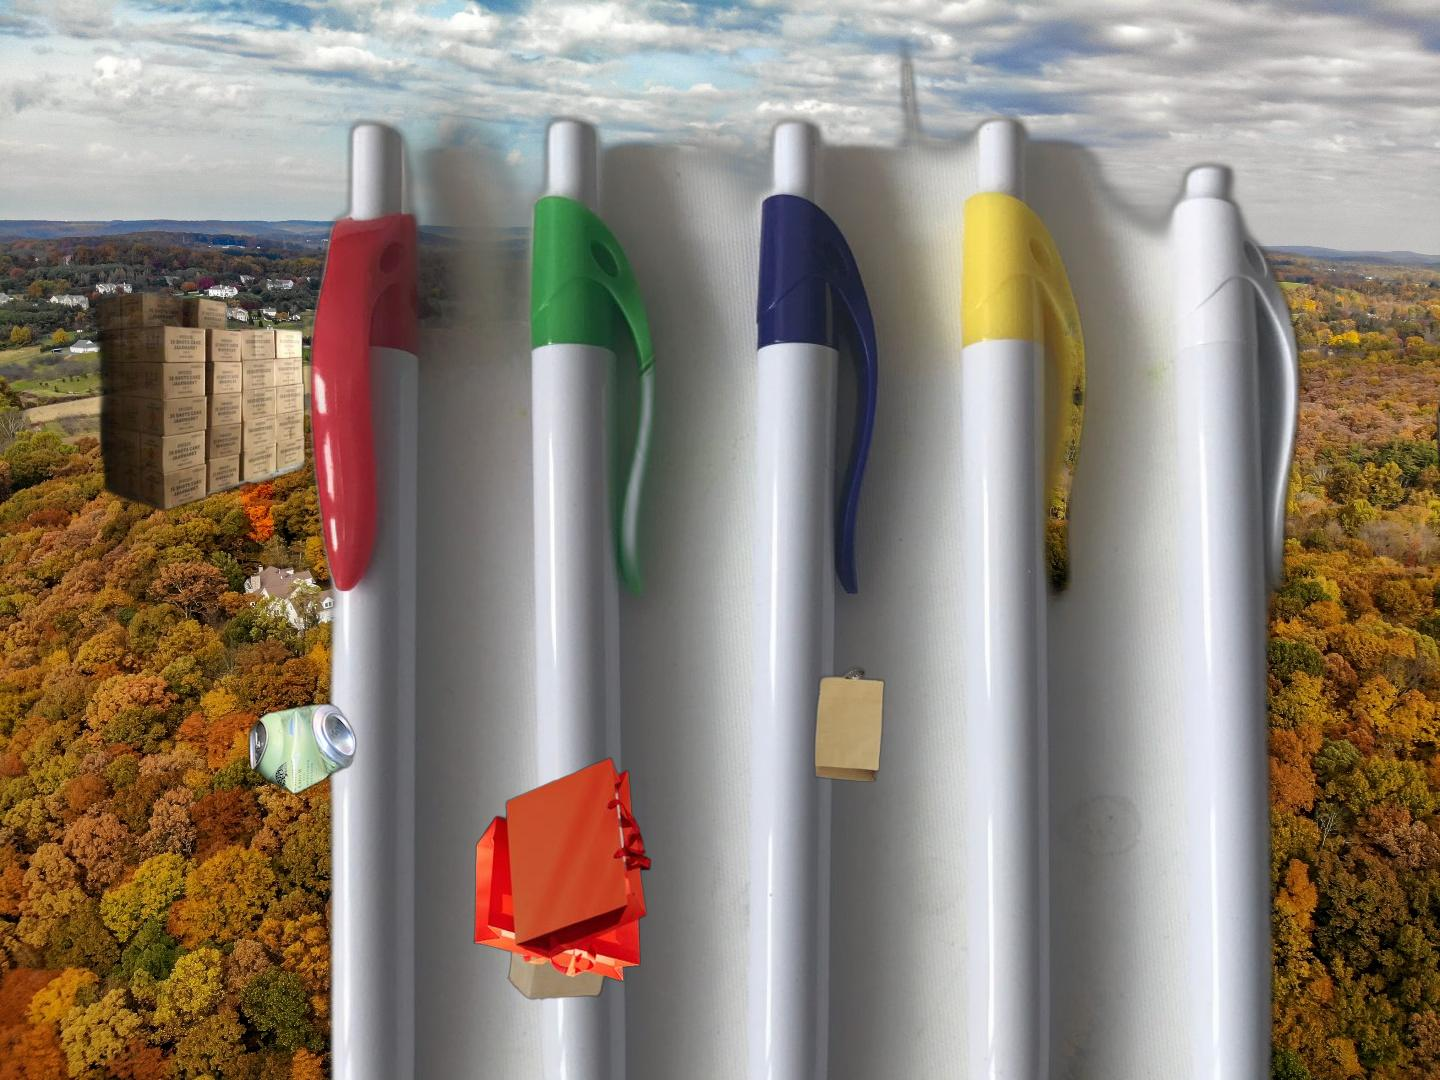clothes: (387, 319, 781, 788)
glass: (1432, 345, 1440, 508)
metal-cans: (244, 697, 657, 1080)
paper-bag: (471, 756, 653, 1002), (811, 665, 941, 785)
penholder: (297, 29, 1312, 1080)
plastic-bag: (460, 783, 618, 909)
trashbox-cardboard: (7, 261, 316, 580)
